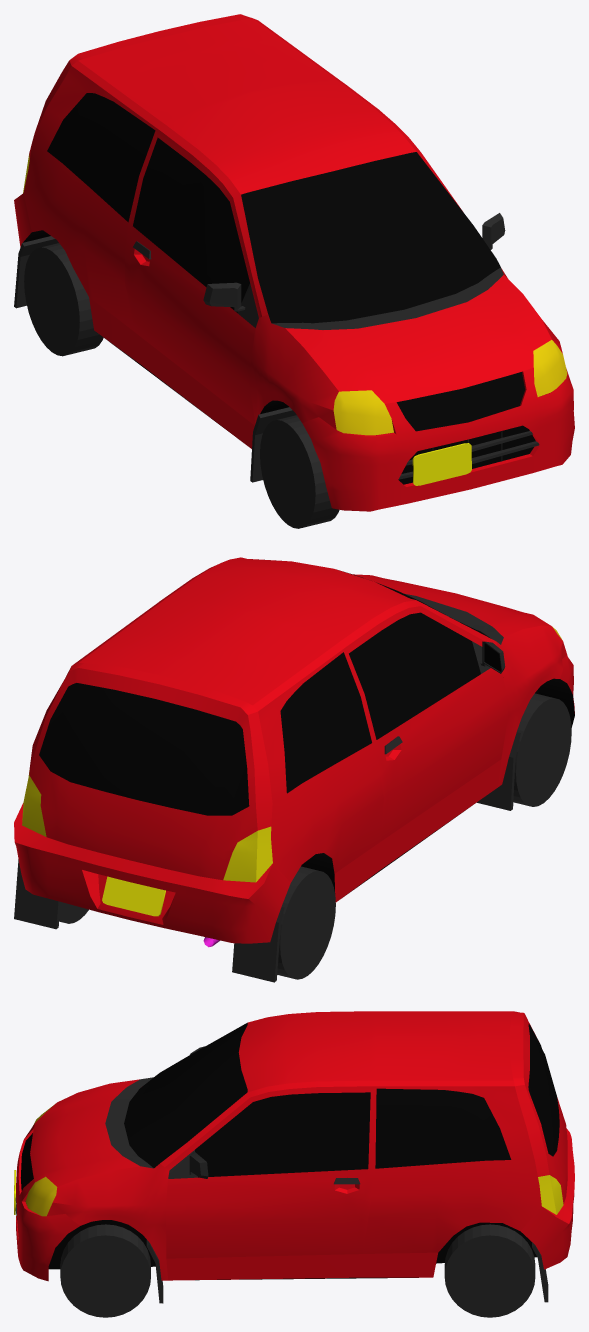
Rendered from Minica_gen8_base_v1.fbx.
3 views of the same model, one above another, from view 1: azimuth 30°, elevation 25°; view 2: azimuth 150°, elevation 25°; view 3: azimuth 270°, elevation 25° (orthographic). The views are drawn at different scales.
Parts seen in each view (by area): view 1: Minica_gen8_base_Body, Minica_gen8_base_Door_FR, FrontBumper_Base, Bonnet_Base, wheel_Dummy, Minica_gen8_base_HeadLamp, Rally_Base, NumberPlate_Front; view 2: Minica_gen8_base_Body, Minica_gen8_base_Door_FR, RearBumper_Base, wheel_Dummy, Rally_Base, Minica_gen8_base_BackLamp, Bonnet_Base, NumberPlate_Rear; view 3: Minica_gen8_base_Body, Minica_gen8_base_Door_FL, wheel_Dummy, Bonnet_Base, FrontBumper_Base, RearBumper_Base, Minica_gen8_base_HeadLamp, Minica_gen8_base_BackLamp, Rally_Base.
Part boxes in pixels (x1=…): Minica_gen8_base_Body: x1=23, y1=14, x2=562, y2=448; Minica_gen8_base_Door_FR: x1=124, y1=128, x2=261, y2=425; FrontBumper_Base: x1=302, y1=367, x2=574, y2=511; Bonnet_Base: x1=285, y1=275, x2=551, y2=403; wheel_Dummy: x1=24, y1=243, x2=339, y2=528; Minica_gen8_base_HeadLamp: x1=333, y1=340, x2=567, y2=435; Rally_Base: x1=14, y1=236, x2=296, y2=482; NumberPlate_Front: x1=412, y1=443, x2=471, y2=485; Minica_gen8_base_Body: x1=29, y1=557, x2=574, y2=902; Minica_gen8_base_Door_FR: x1=343, y1=606, x2=508, y2=841; RearBumper_Base: x1=14, y1=803, x2=290, y2=943; wheel_Dummy: x1=59, y1=693, x2=571, y2=979; Rally_Base: x1=14, y1=732, x2=520, y2=982; Minica_gen8_base_BackLamp: x1=22, y1=770, x2=272, y2=882; Bonnet_Base: x1=353, y1=574, x2=551, y2=637; NumberPlate_Rear: x1=102, y1=876, x2=165, y2=916; Minica_gen8_base_Body: x1=47, y1=1011, x2=567, y2=1280; Minica_gen8_base_Door_FL: x1=165, y1=1086, x2=376, y2=1258; wheel_Dummy: x1=60, y1=1224, x2=535, y2=1317; Bonnet_Base: x1=30, y1=1079, x2=139, y2=1186; FrontBumper_Base: x1=15, y1=1124, x2=80, y2=1281; RearBumper_Base: x1=520, y1=1129, x2=574, y2=1269; Minica_gen8_base_HeadLamp: x1=25, y1=1103, x2=57, y2=1216; Minica_gen8_base_BackLamp: x1=538, y1=1175, x2=563, y2=1214; Rally_Base: x1=146, y1=1239, x2=548, y2=1303.
Size of the model in its own units: 170 by 153 by 340.
